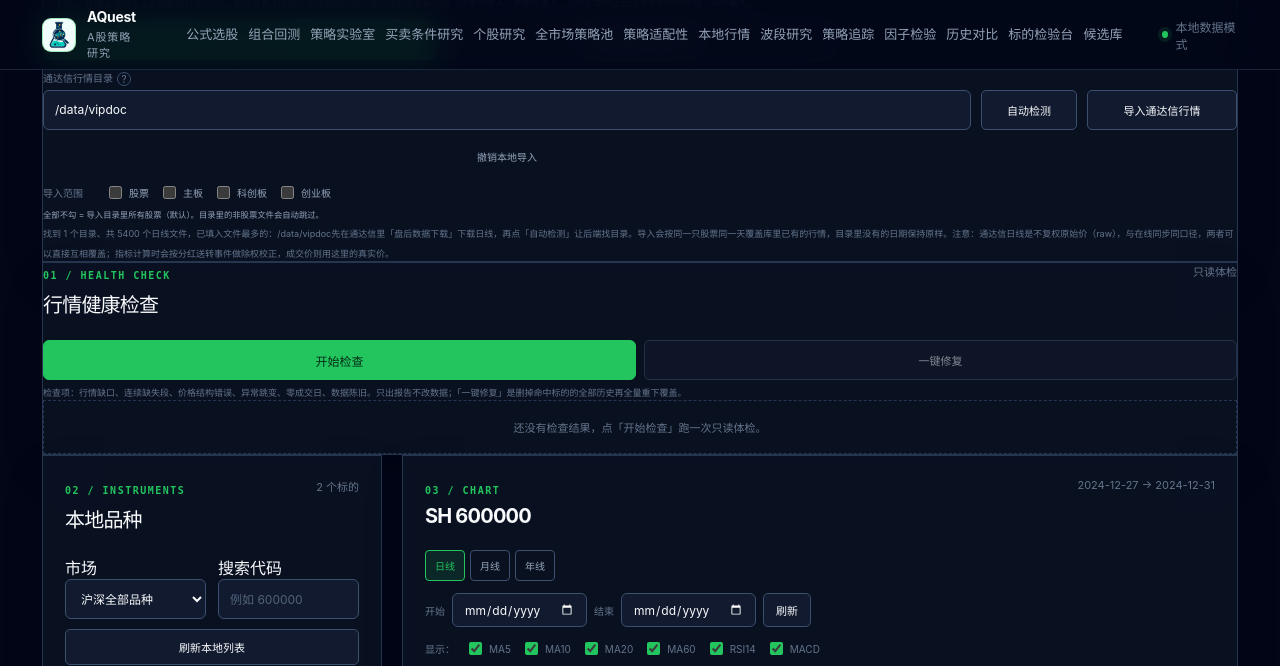
it: MarketDataPage › runs the read-only health check and lists the flagged instruments
(page scrolled)
Step 1. Click the button with test id "market-health-check" → (340, 360), box [43,340,636,380]
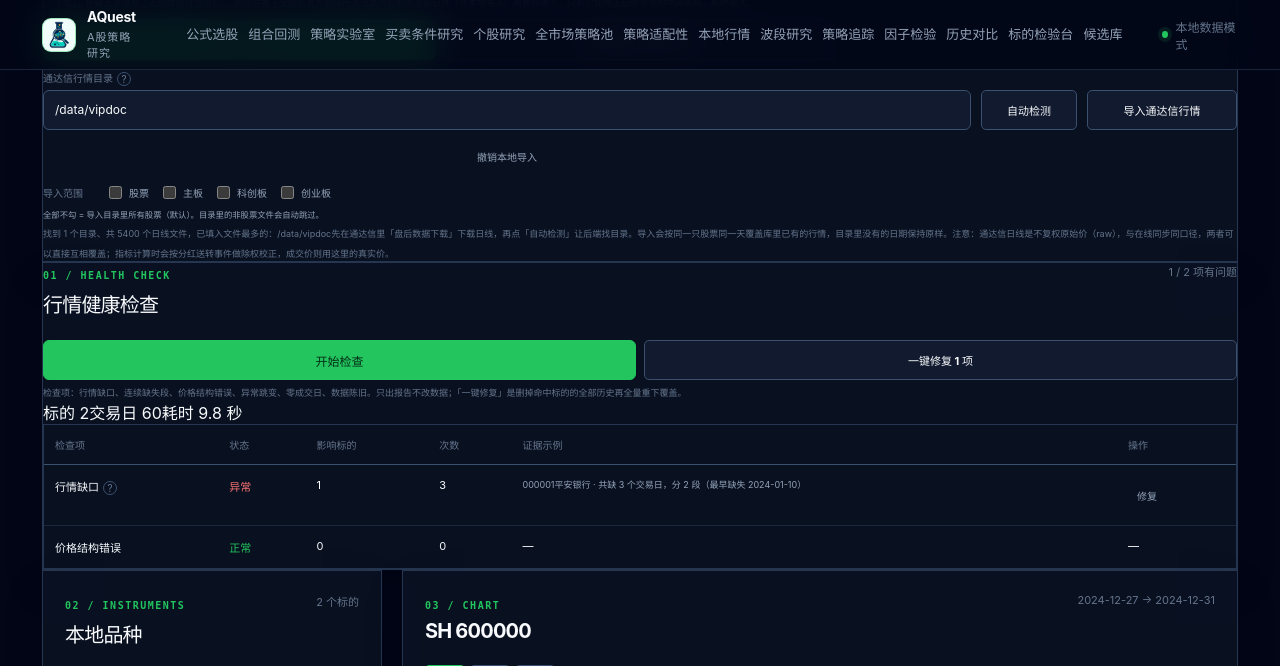
Now the table with test id "market-health-table" shows "行情缺口", box [55,480,99,494]
Now the row with test id "market-health-row-gap" shows "异常", box [229,480,251,494]
Now the row with test id "market-health-row-gap" shows "缺 3 个交易日", box [590,479,806,490]
